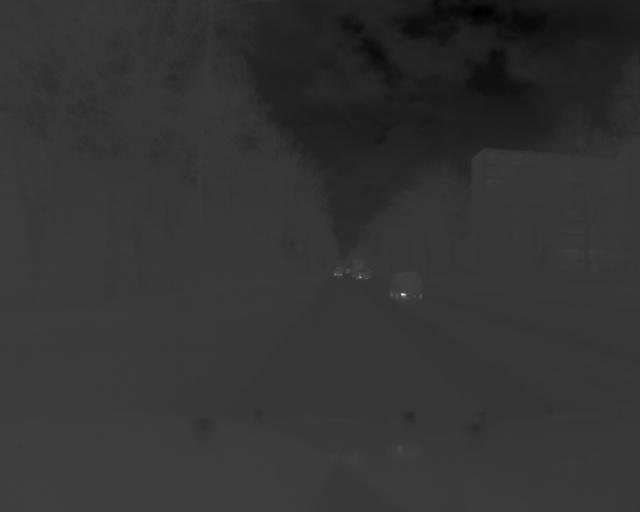car: (388, 269, 424, 301)
